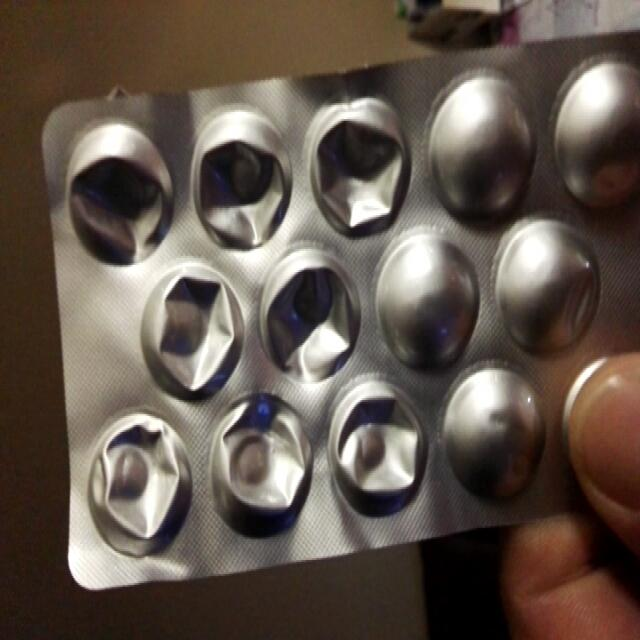Empty: (185, 101, 292, 251), (304, 89, 415, 233), (84, 414, 194, 558), (324, 379, 427, 528), (68, 123, 173, 261), (207, 400, 311, 537), (140, 262, 248, 389), (258, 254, 362, 377)
Pill: (490, 222, 613, 358), (426, 66, 533, 222), (445, 362, 550, 514), (378, 227, 474, 377), (552, 54, 640, 212)
